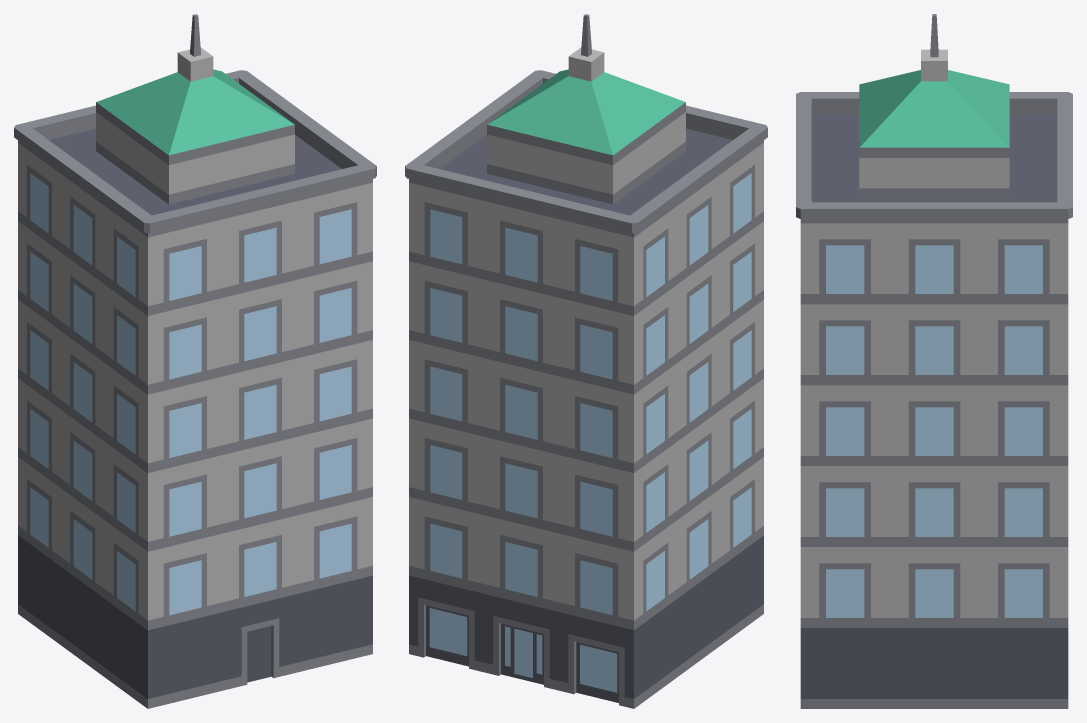
Rendered from Skyscraper.glb.
3 renders of one model, left to right at view 1: azimuth 30°, elevation 25°; view 2: azimuth 150°, elevation 25°; view 3: azimuth 270°, elevation 25°, orthographic. The views are drawn at different scales.
Parts seen in each view (by area): view 1: skyscraperE; view 2: skyscraperE; view 3: skyscraperE.
Boxes of the visible parts, x1,y1,x2,y2 form: skyscraperE: [14, 14, 376, 708]; skyscraperE: [405, 14, 767, 708]; skyscraperE: [796, 14, 1072, 708].
Size of the model in its own units: 1.24 by 3.15 by 1.24.
